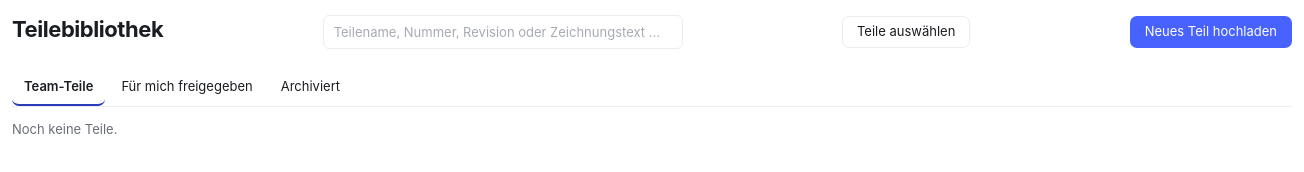
Test case: PartsPage (Part Library, M2.12) › shows the shared-with-me empty state without write chrome (M6)
Click the tab "Für mich freigegeben" at (187, 87), box [109,68,265,106]
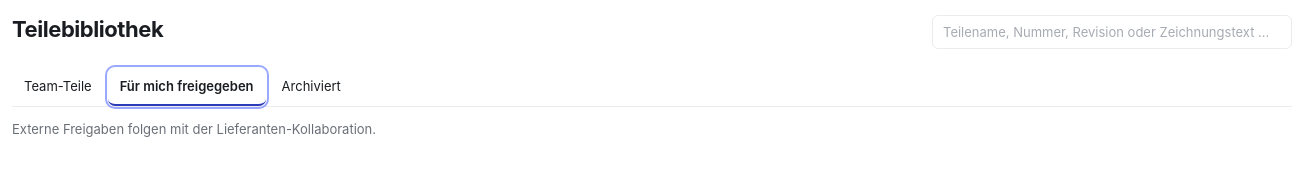
Check: the text "Externe Freigaben folgen mit der Lieferanten-Kollaboration." is shown, box [12,121,376,137]
Check: the button "Neues Teil hochladen" is gone
Check: the button "Teile auswählen" is gone
